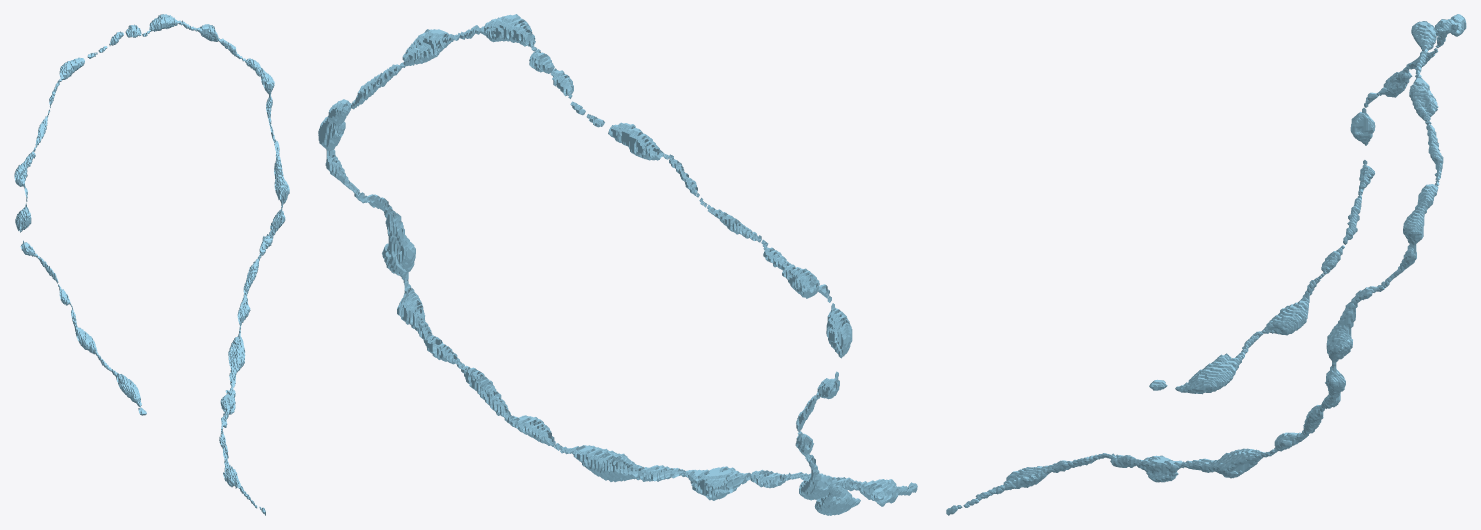
Rendered from SVV_AWCR.gltf.
3 views of the same model, side by side, from view 1: azimuth 30°, elevation 25°; view 2: azimuth 150°, elevation 25°; view 3: azimuth 270°, elevation 25° (orthographic). The views are drawn at different scales.
Visible parts, largest first — view 1: AWCR; view 2: AWCR; view 3: AWCR.
Boxes of the visible parts, x1,y1,x2,y2 form: AWCR: [14, 14, 289, 515]; AWCR: [318, 14, 917, 515]; AWCR: [946, 14, 1466, 515].
Size of the model in its own units: 138517 by 176773 by 155702.
